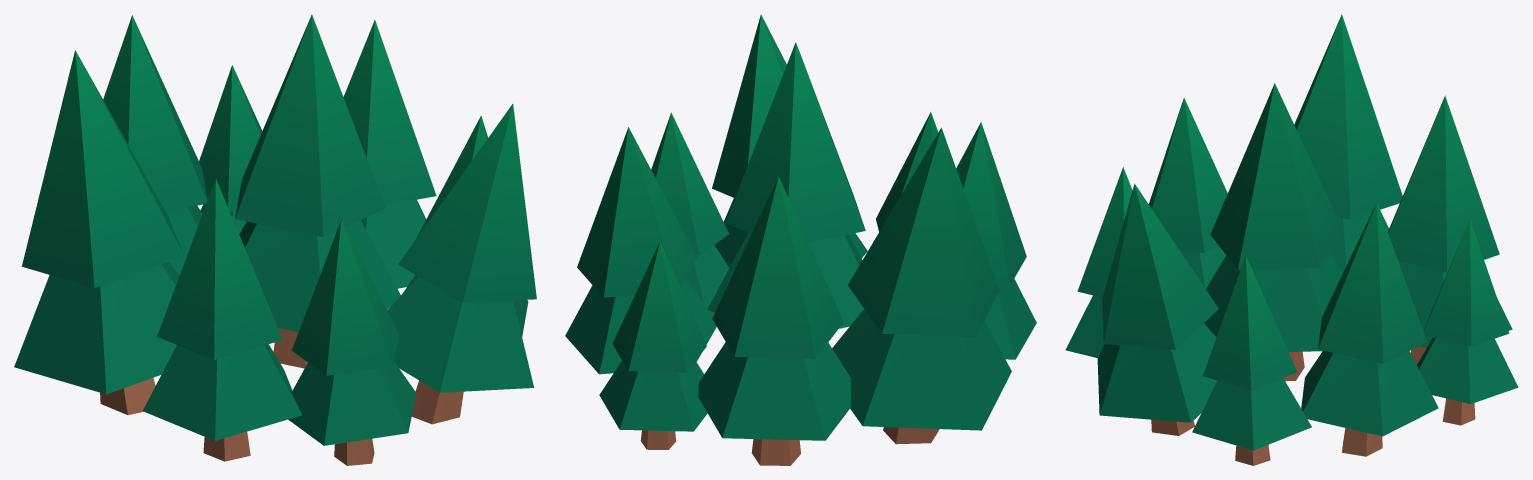
Rendered from trees_a_small.glb.
3 views of the same model, side by side, from view 1: azimuth 30°, elevation 25°; view 2: azimuth 150°, elevation 25°; view 3: azimuth 270°, elevation 25° (orthographic). The views are drawn at different scales.
Visible parts, largest first — view 1: trees_A_small; view 2: trees_A_small; view 3: trees_A_small.
Part boxes in pixels (<box>): trees_A_small: <box>14,14,536,465</box>; trees_A_small: <box>565,14,1036,465</box>; trees_A_small: <box>1065,14,1518,465</box>.
Size of the model in its own units: 1.43 by 1.11 by 1.44.
Materials: 1 (1 with a texture image).
